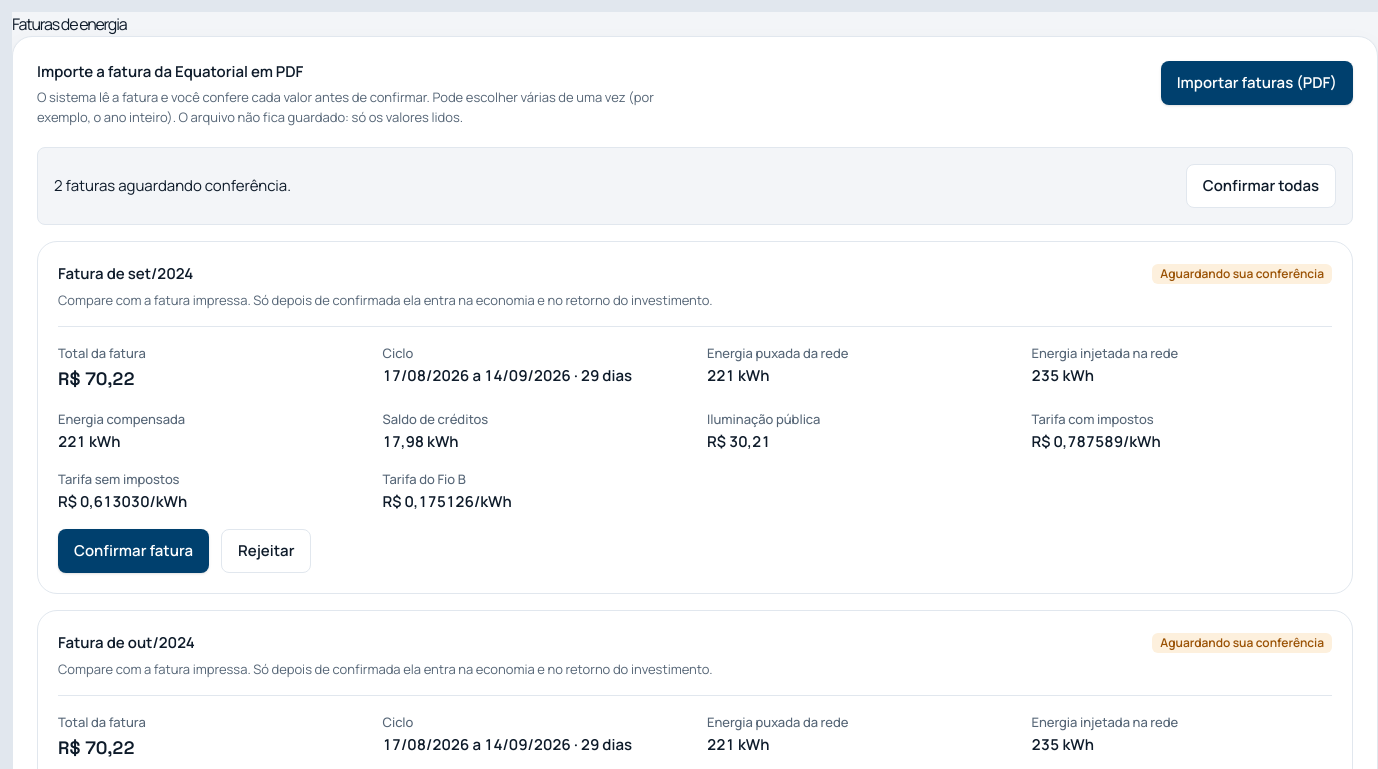
Test: BillsSection — importar e conferir faturas › confirmar todas para no primeiro 403 e diz que o perfil não tem permissão
Step 1. Click the button "Confirmar todas" → click(1261, 186), box [1186, 164, 1336, 208]
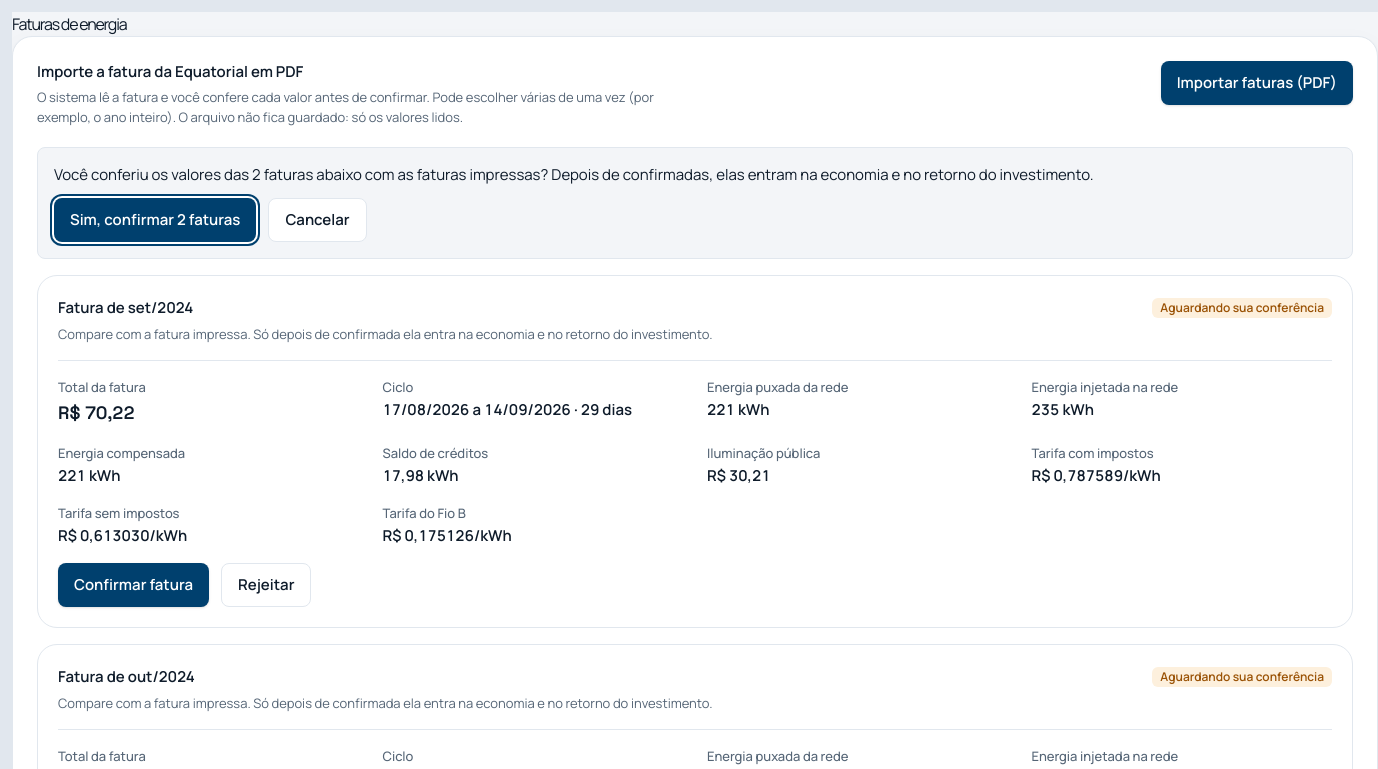
Step 2. Click the button "Sim, confirmar 2 faturas" → click(155, 220), box [54, 198, 256, 242]
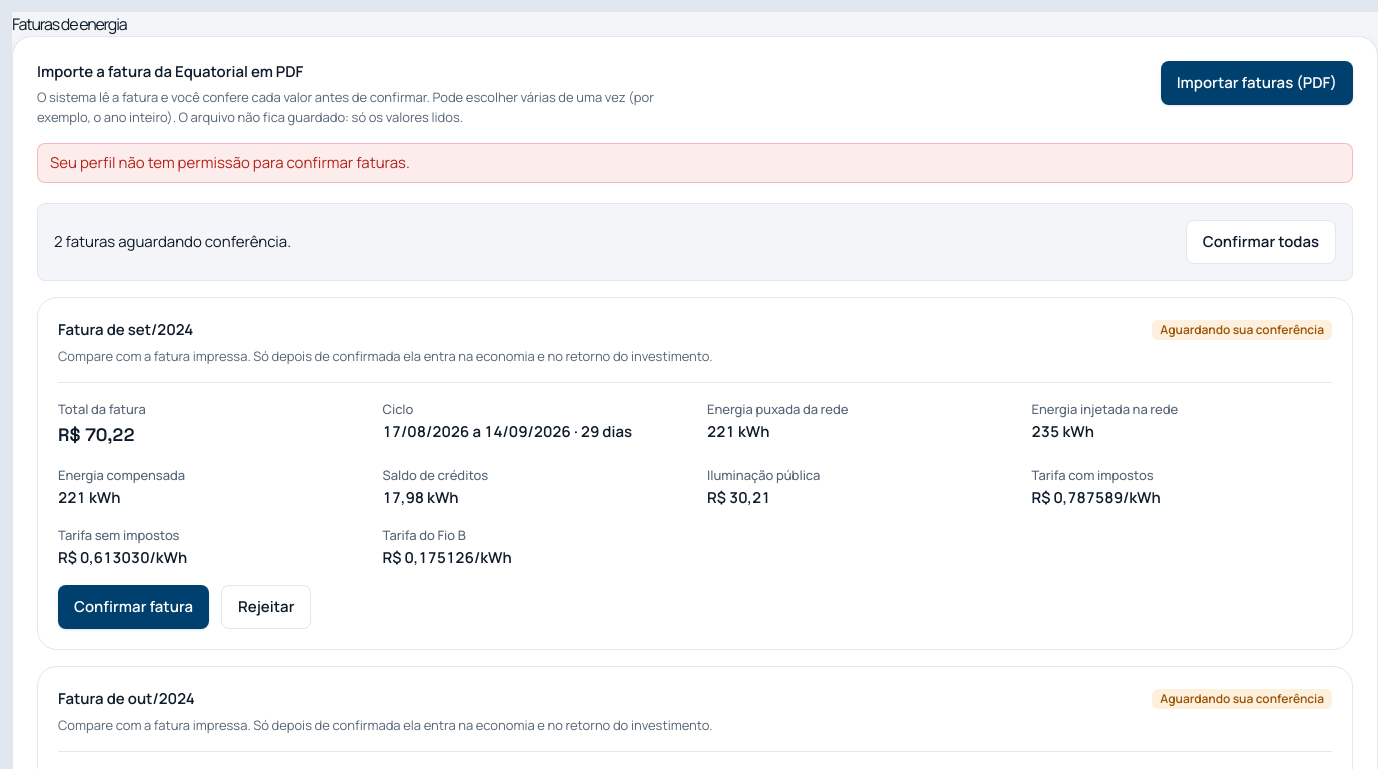
Expected: the message reads "Seu perfil não tem permissão para confirmar faturas.", [50, 152, 410, 173]
